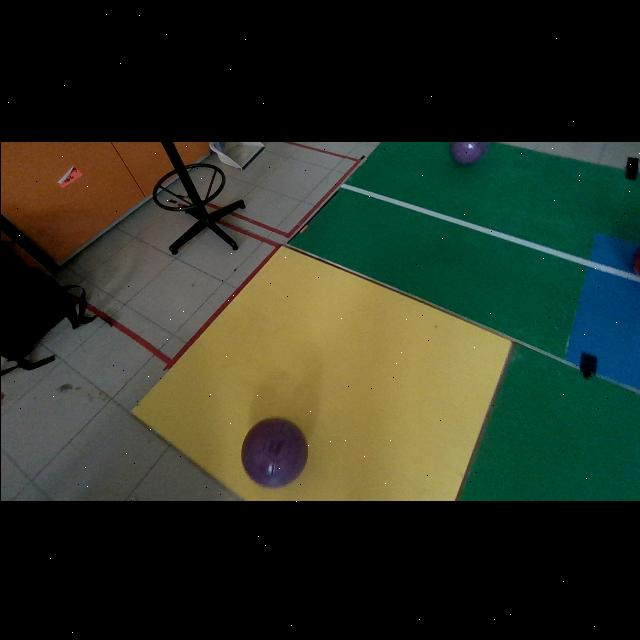P: (241, 416, 307, 486), (449, 140, 488, 162)
R: (632, 243, 640, 276)
